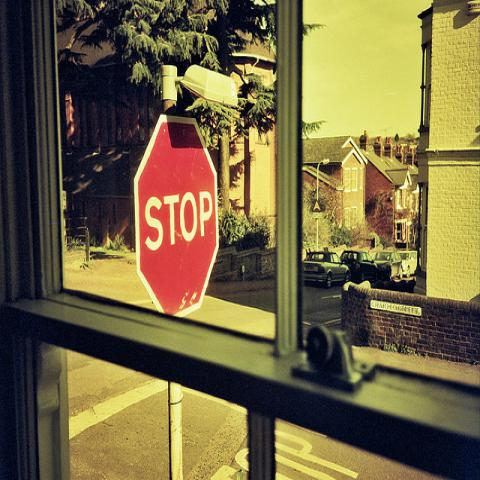car: (301, 250, 351, 286), (340, 250, 378, 282), (372, 251, 403, 281), (397, 250, 417, 277)
